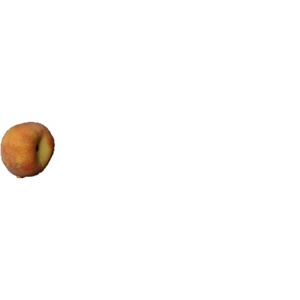pêssego: (1, 122, 56, 181)
